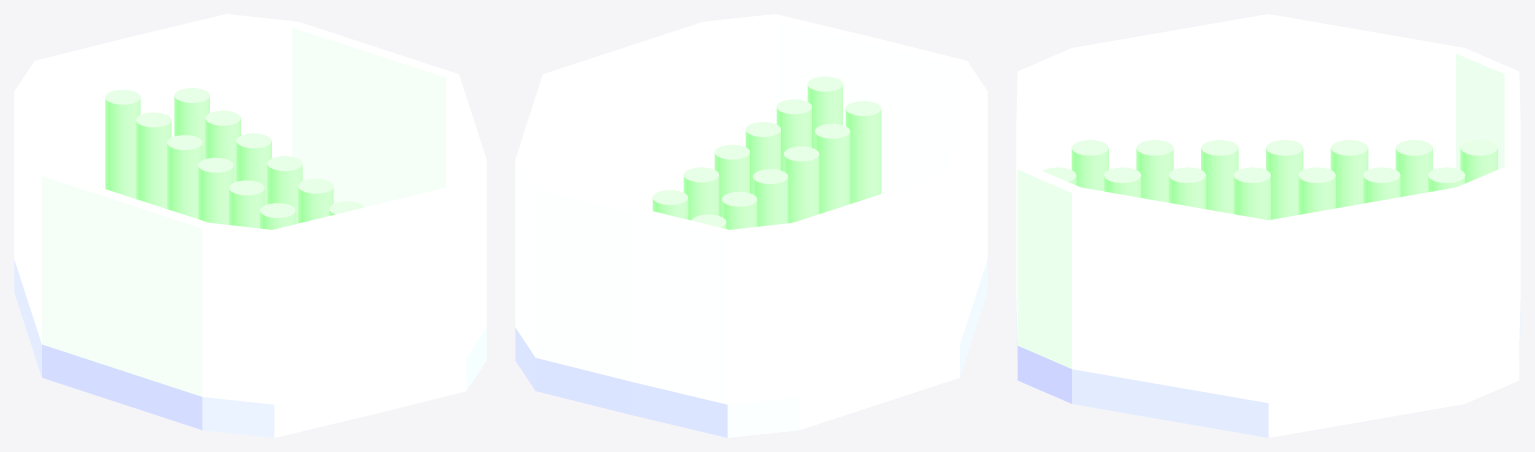
File: map_ziv-Hb.fbx
3 views of the same model, side by side, from view 1: azimuth 30°, elevation 25°; view 2: azimuth 150°, elevation 25°; view 3: azimuth 270°, elevation 25° (orthographic). The views are drawn at different scales.
Parts seen in each view (by area): view 1: hard.001, Circle.001, hard.002; view 2: hard.001, Circle.001, hard.002; view 3: hard.001, Circle.001, hard.002.
Boxes of the visible parts, x1=… form: hard.001: x1=14, y1=14, x2=486, y2=404; Circle.001: x1=105, y1=88, x2=364, y2=229; hard.002: x1=14, y1=260, x2=486, y2=437; hard.001: x1=515, y1=14, x2=987, y2=404; Circle.001: x1=652, y1=76, x2=881, y2=229; hard.002: x1=515, y1=260, x2=987, y2=437; hard.001: x1=1016, y1=14, x2=1520, y2=402; Circle.001: x1=1042, y1=140, x2=1497, y2=220; hard.002: x1=1016, y1=299, x2=1520, y2=437.
Bounding box in the file's own units: 343 × 159 × 343.
